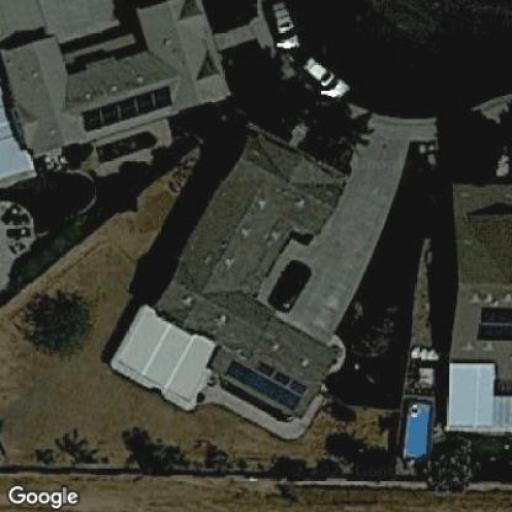solar-panel: (224, 354, 310, 408), (82, 86, 175, 129), (474, 304, 511, 346)
